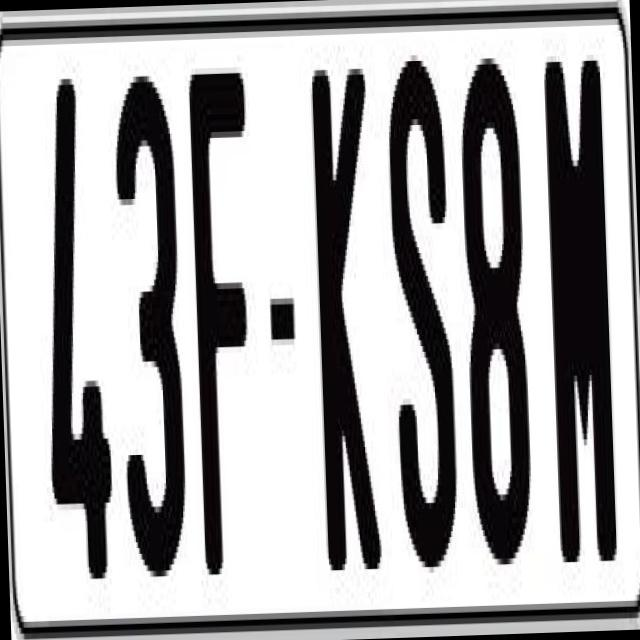3: (109, 58, 192, 566)
4: (33, 77, 120, 603)
8: (454, 56, 538, 588)
F: (188, 71, 267, 592)
K: (306, 68, 377, 576)
M: (539, 42, 615, 574)
S: (380, 42, 454, 550)
